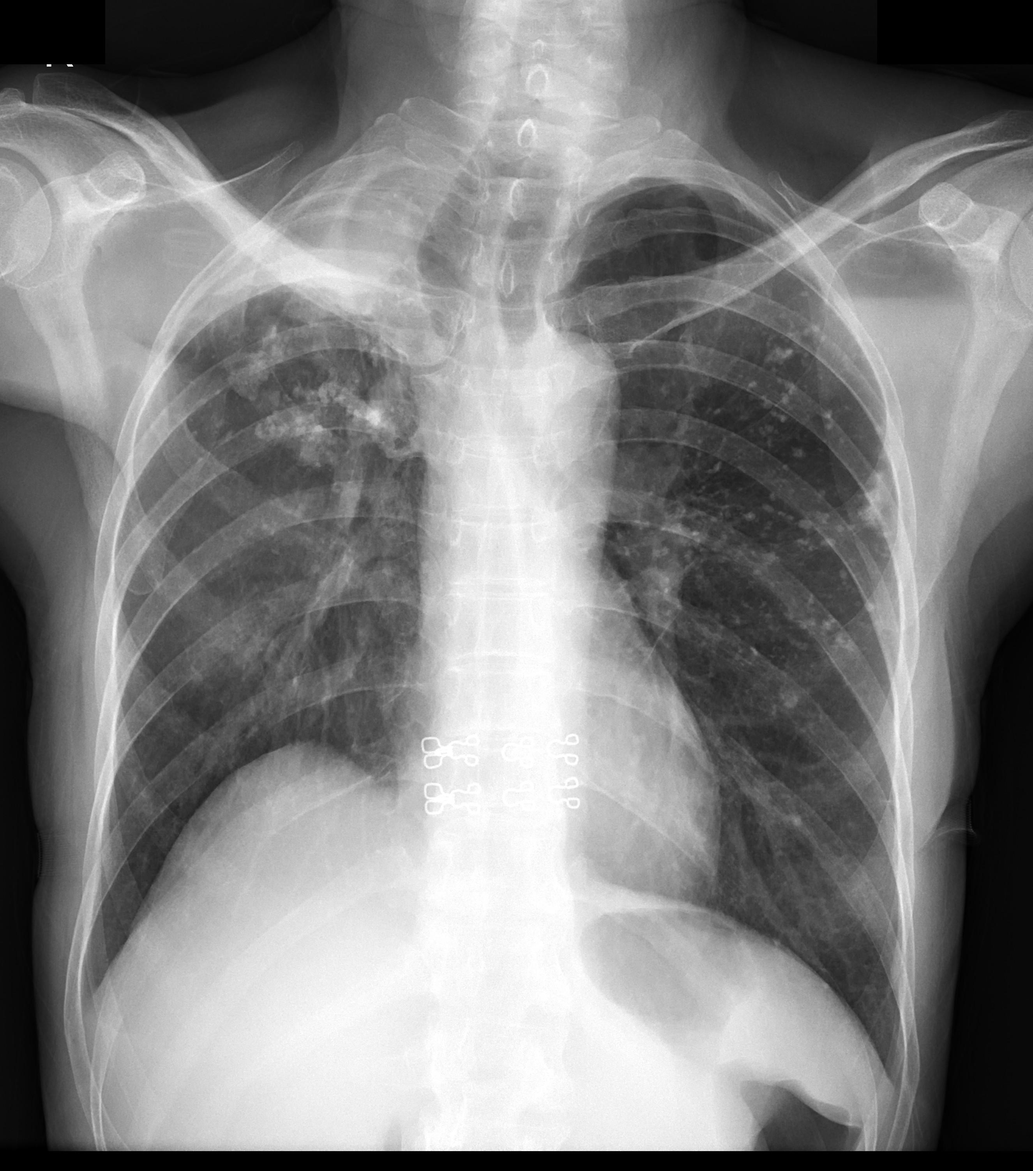Pleural thickening: (159, 129, 462, 345), (717, 171, 804, 243), (858, 441, 895, 546)
Pulmonary fibrosis: (713, 267, 899, 712), (177, 274, 419, 475)
